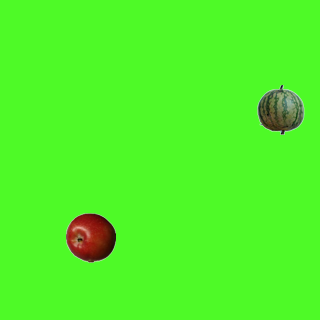Apple Braeburn: (65, 212, 115, 262)
Watermelon: (255, 84, 305, 134)
